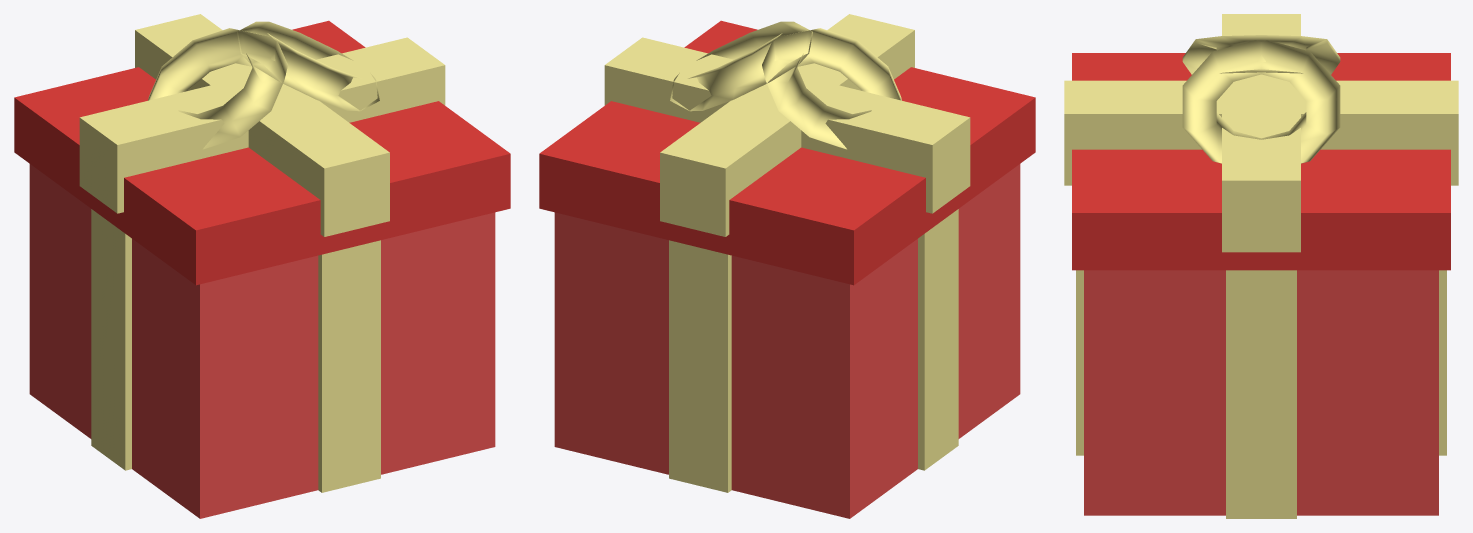
The model's file is gift.glb.
The picture shows the model from 3 angles, left to right: view 1: azimuth 30°, elevation 25°; view 2: azimuth 150°, elevation 25°; view 3: azimuth 270°, elevation 25°; orthographic projection. The views are drawn at different scales.
Visible parts, largest first — view 1: match/gift; view 2: match/gift; view 3: match/gift.
Boxes of the visible parts, bbox=[...] form: match/gift: bbox=[14, 14, 510, 518]; match/gift: bbox=[539, 14, 1035, 518]; match/gift: bbox=[1064, 14, 1458, 518].
Size of the model in its own units: 0.8859 by 1 by 0.8859.
